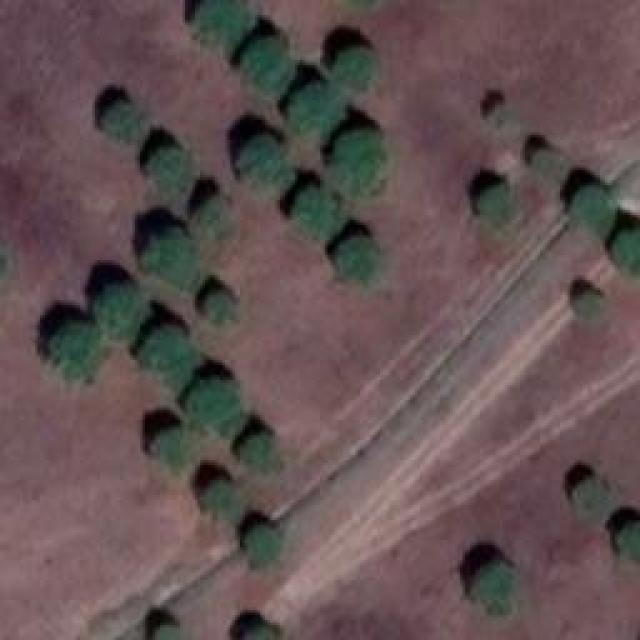Tree: (335, 133, 383, 196), (195, 0, 252, 52), (190, 380, 248, 430), (145, 330, 198, 383), (243, 38, 296, 91), (55, 323, 105, 376), (240, 138, 290, 191), (153, 235, 203, 285), (295, 188, 340, 241), (285, 88, 340, 131), (98, 288, 148, 333), (150, 148, 193, 193), (475, 565, 515, 610), (338, 238, 381, 278), (103, 105, 146, 143), (570, 188, 608, 231), (573, 480, 613, 518), (337, 47, 375, 85), (203, 480, 238, 518), (155, 430, 188, 468), (243, 435, 276, 470), (480, 185, 513, 220), (248, 525, 278, 563), (612, 230, 640, 270), (200, 198, 228, 231), (480, 103, 511, 131), (208, 290, 233, 320), (240, 622, 278, 640), (578, 293, 601, 318), (620, 527, 640, 555), (150, 625, 180, 640), (535, 150, 555, 168)
